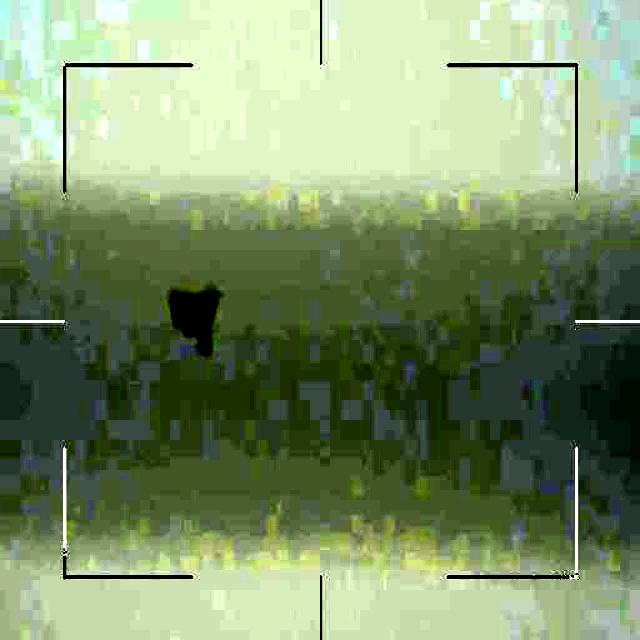bird: (161, 284, 226, 356)
